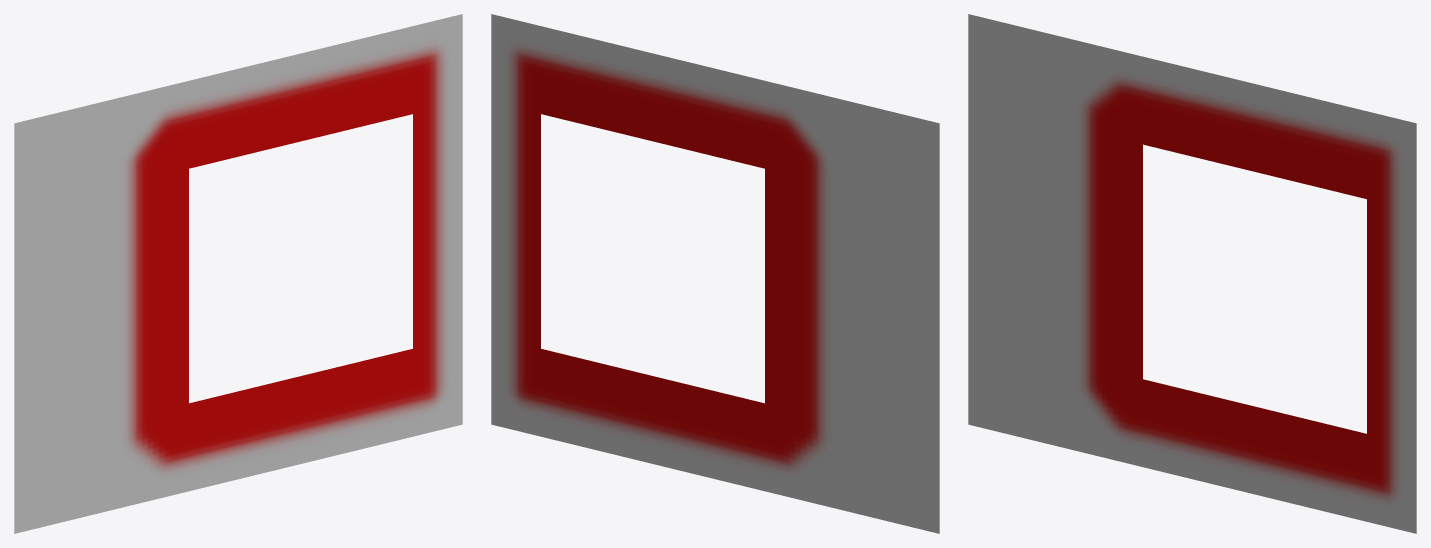
The model's file is wall_window_400x350_03.fbx.
The picture shows the model from 3 angles, left to right: view 1: azimuth 30°, elevation 25°; view 2: azimuth 150°, elevation 25°; view 3: azimuth 330°, elevation 25°; orthographic projection.
Parts seen in each view (by area): view 1: wall_window_400x350_03; view 2: wall_window_400x350_03; view 3: wall_window_400x350_03.
Part boxes in pixels (box(x1,y1,x2,y2)): wall_window_400x350_03: box(14, 14, 462, 533); wall_window_400x350_03: box(491, 14, 939, 533); wall_window_400x350_03: box(968, 14, 1416, 533).
Size of the model in its own units: 4 by 3.5 by 0.
